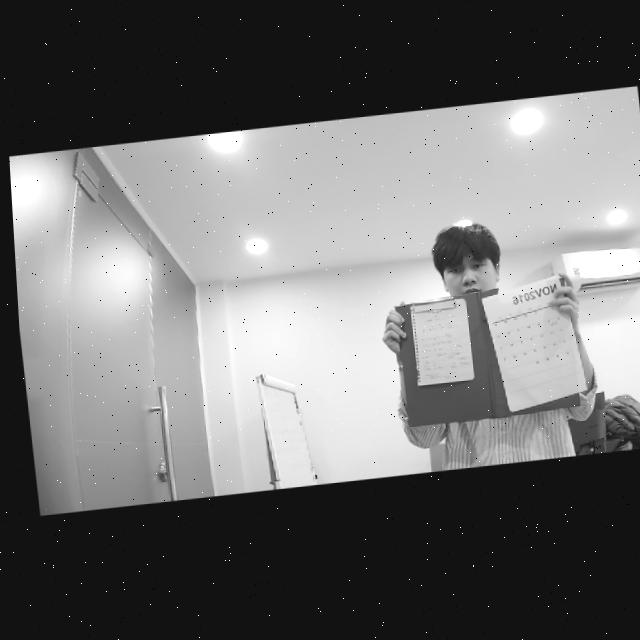document: (481, 275, 588, 413), (410, 298, 475, 386)
face: (423, 215, 505, 304)
